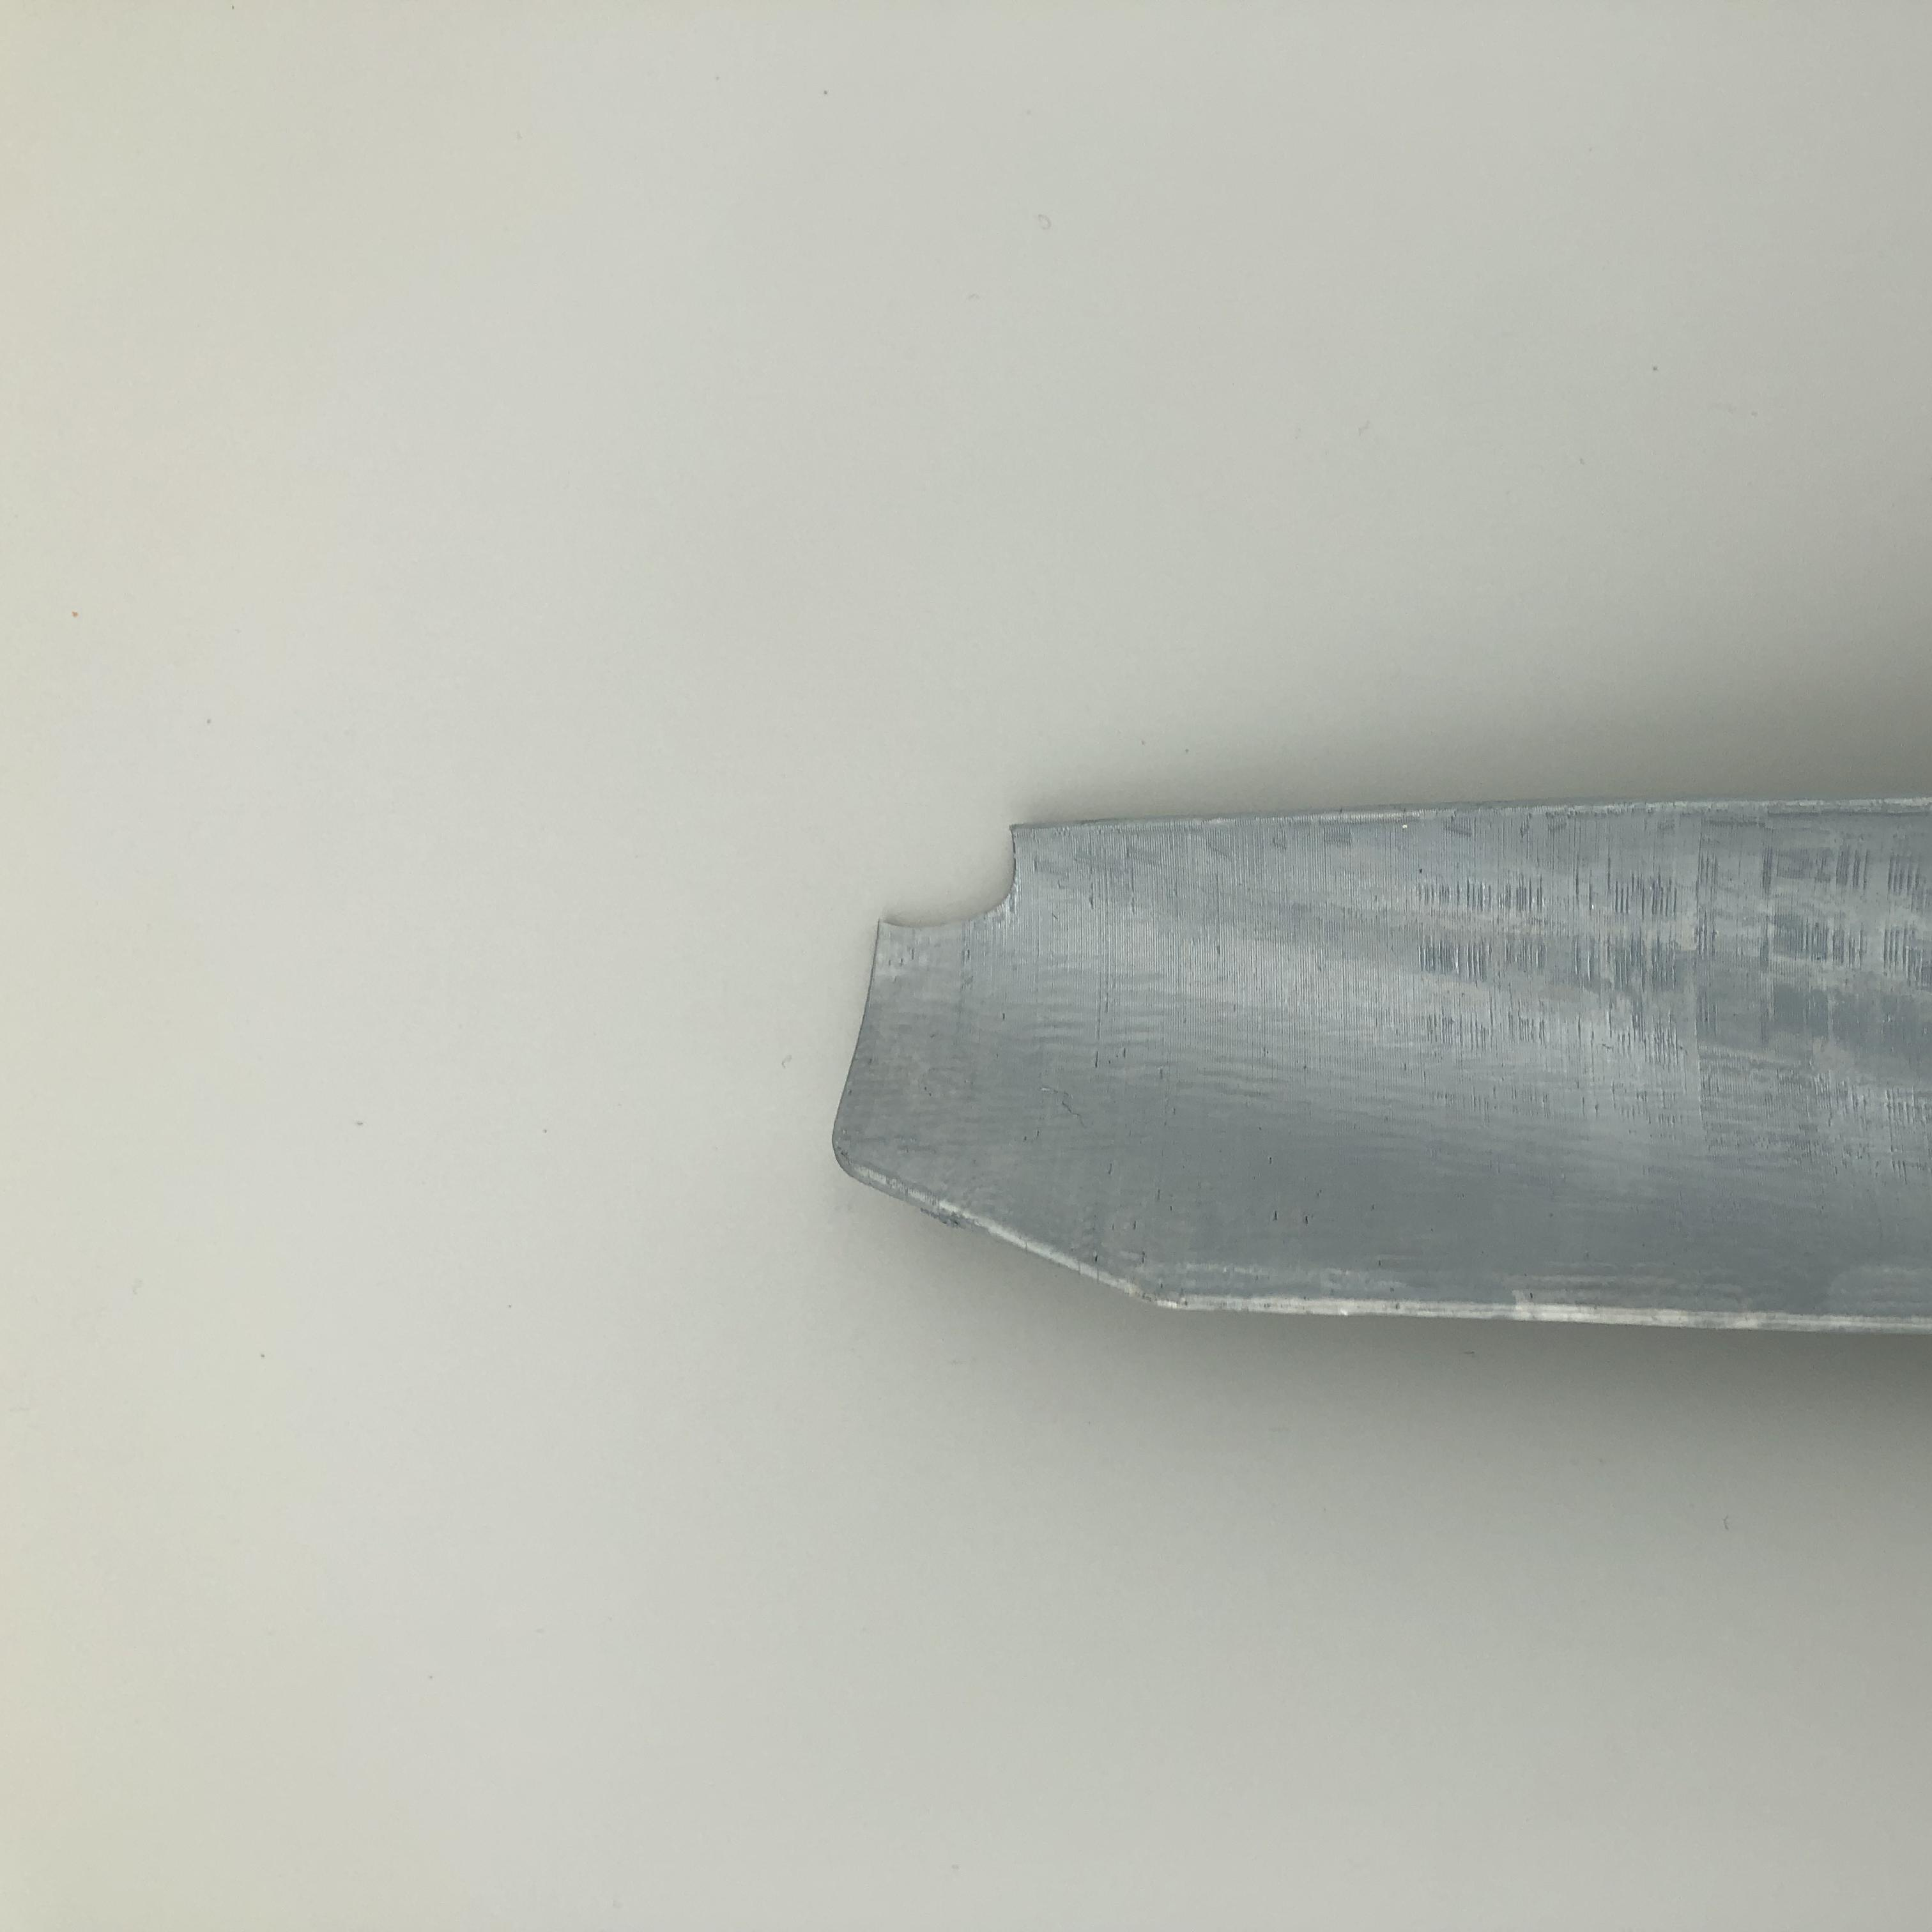fracture: (872, 817, 1047, 941)
